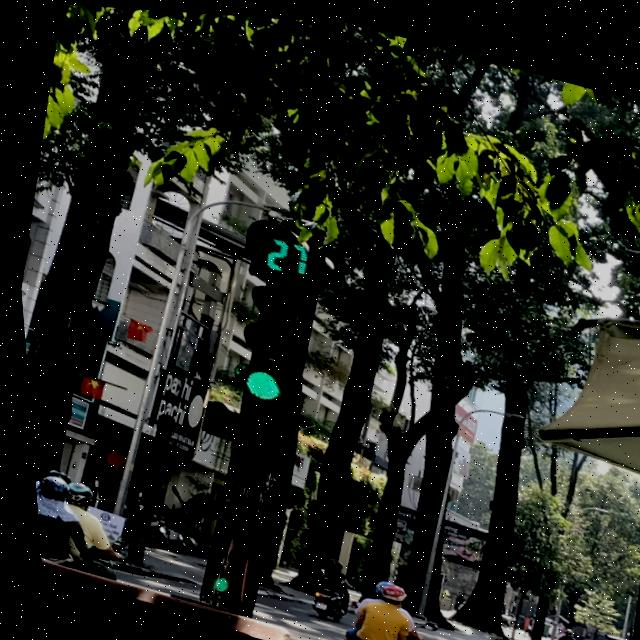Green: (222, 266, 319, 416), (189, 514, 260, 608)
